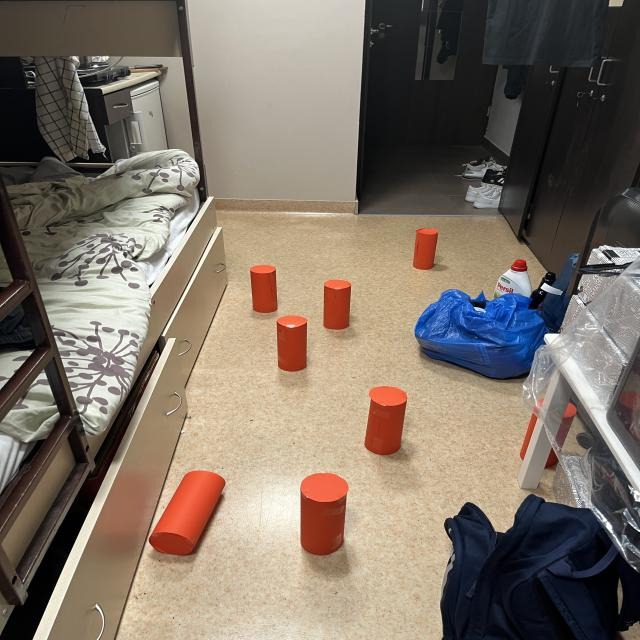przeszkoda: (149, 471, 225, 555), (301, 473, 348, 555), (364, 386, 407, 455), (277, 315, 308, 371), (324, 280, 351, 330), (250, 265, 277, 313), (413, 229, 438, 269)
